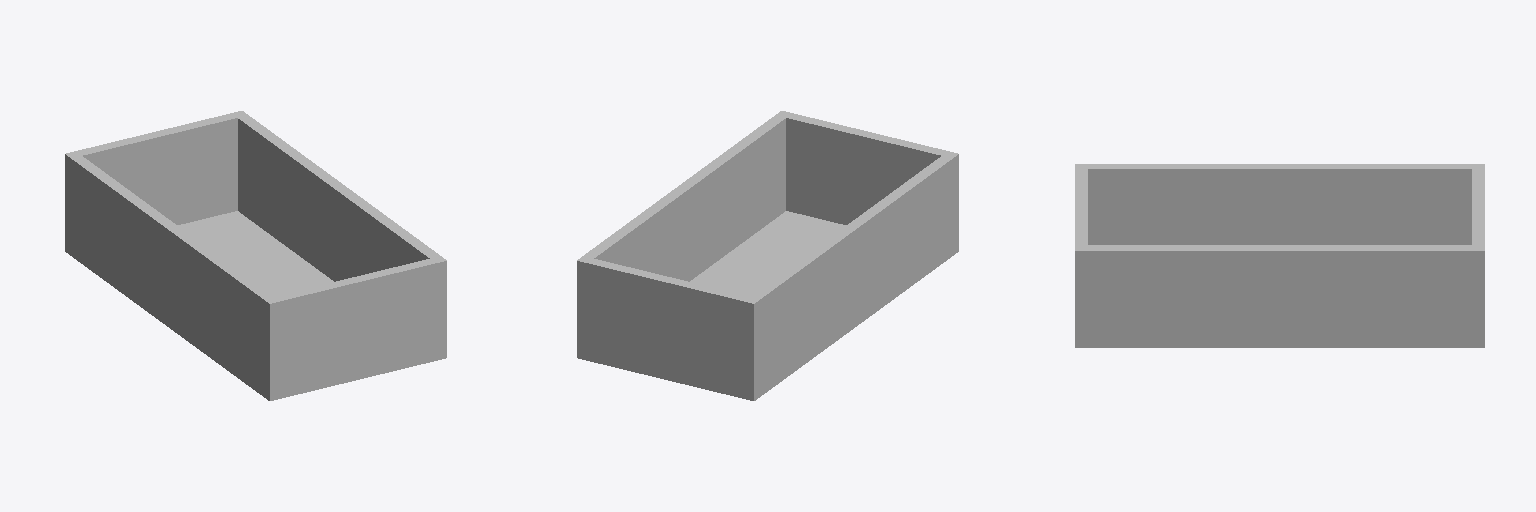
The model's file is room.obj.
The picture shows the model from 3 angles: view 1: azimuth 30°, elevation 25°; view 2: azimuth 150°, elevation 25°; view 3: azimuth 270°, elevation 25°; orthographic projection.
Visible parts, largest first — view 1: Cube.001; view 2: Cube.001; view 3: Cube.001.
Boxes of the visible parts, x1,y1,x2,y2 form: Cube.001: [65, 111, 446, 400]; Cube.001: [577, 111, 958, 400]; Cube.001: [1075, 164, 1484, 347].
Bounding box in the file's own units: 10 × 5.25 × 20.